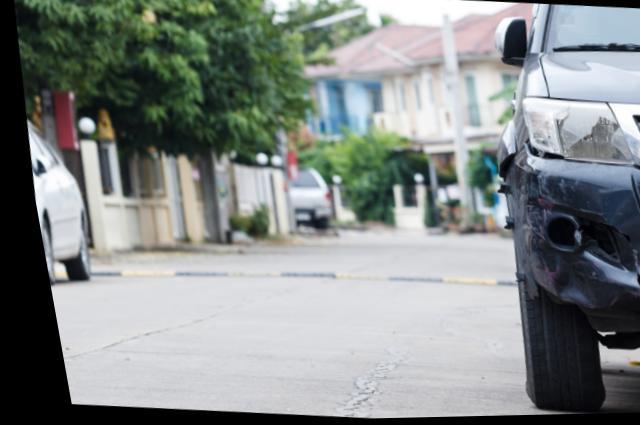crack: (592, 224, 623, 246), (623, 272, 640, 312)
dent: (539, 259, 601, 310)
lamp broken: (517, 99, 630, 167)
